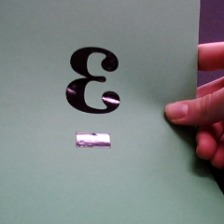green3: (62, 39, 125, 152)
